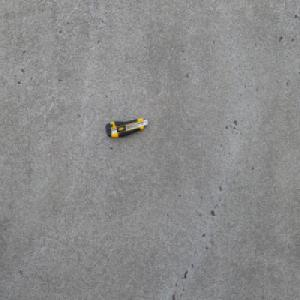Cutter: (105, 117, 148, 138)
